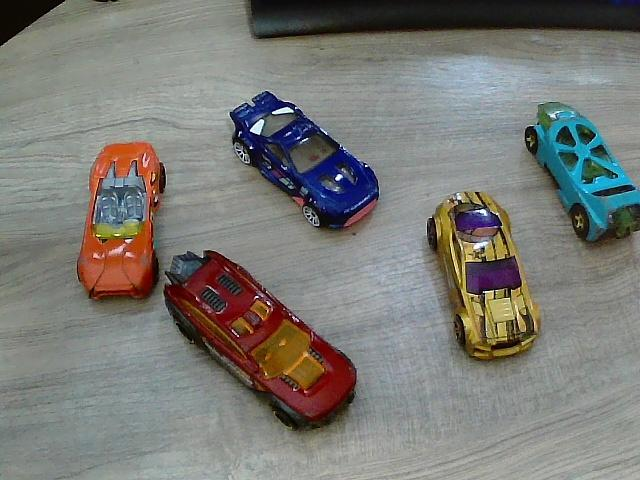Carro: (165, 251, 358, 432), (229, 92, 381, 231), (429, 191, 542, 362), (524, 103, 639, 245), (77, 144, 164, 300)
